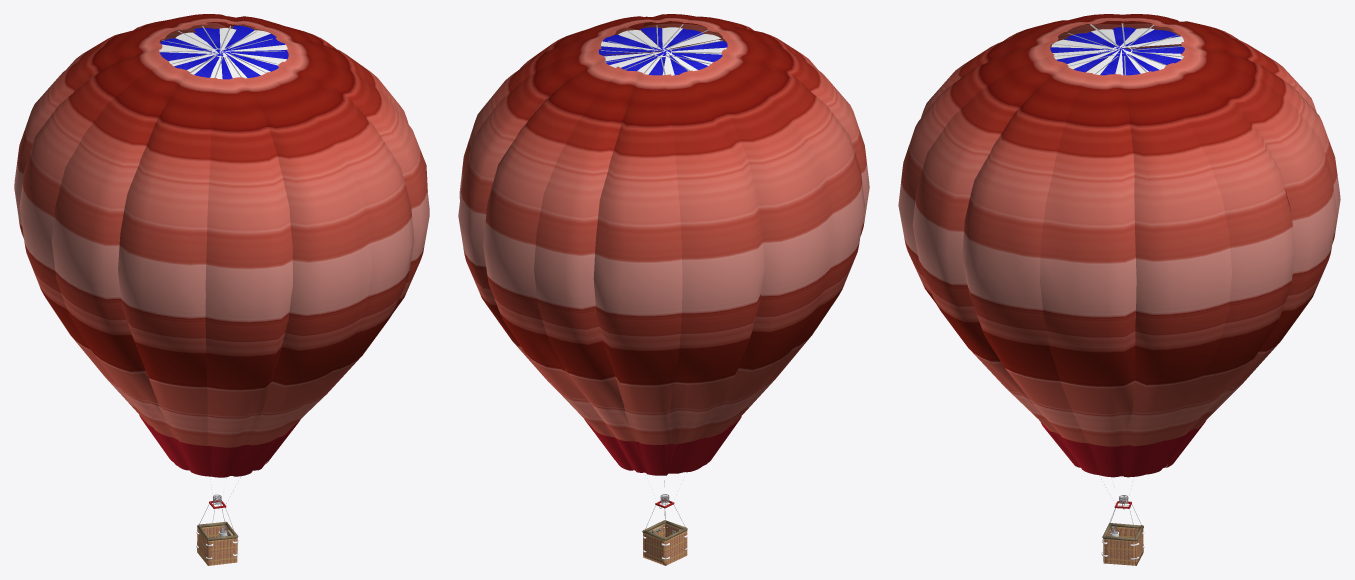
File: balao5.gltf
3 views of the same model, side by side, from view 1: azimuth 30°, elevation 25°; view 2: azimuth 150°, elevation 25°; view 3: azimuth 270°, elevation 25° (orthographic).
Parts seen in each view (by area): view 1: Object_9; view 2: Object_9; view 3: Object_9.
Boxes of the visible parts, x1,y1,x2,y2 form: Object_9: (14, 14, 429, 565); Object_9: (458, 14, 869, 565); Object_9: (898, 14, 1340, 565).
Bounding box in the file's own units: 0.1957 × 0.2725 × 0.2125.
Materials: 33 (17 with a texture image).
